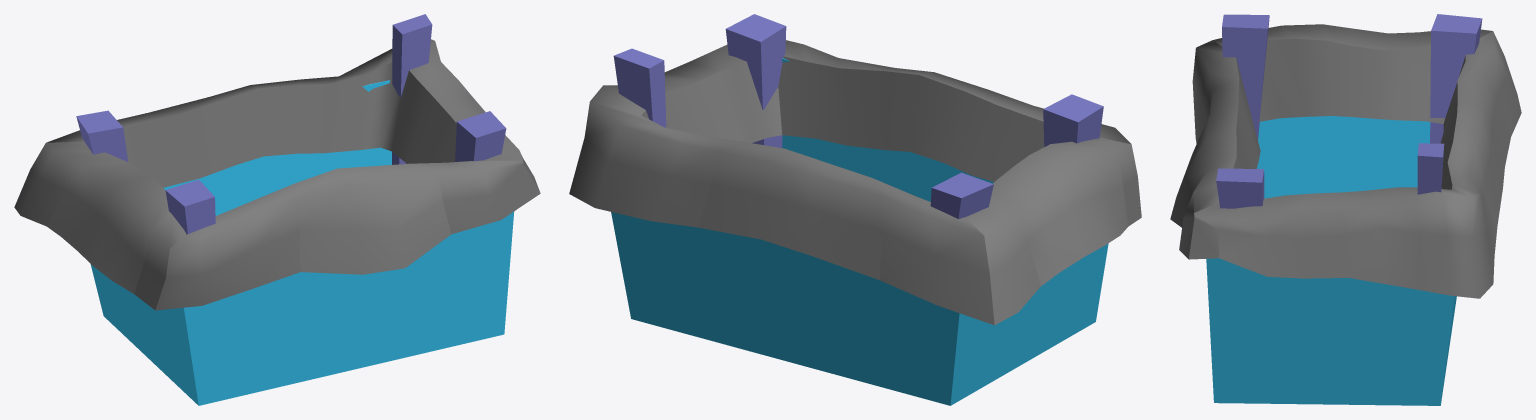
The model's file is Fruit_box_A.fbx.
The picture shows the model from 3 angles, left to right: view 1: azimuth 30°, elevation 25°; view 2: azimuth 150°, elevation 25°; view 3: azimuth 270°, elevation 25°; orthographic projection. The views are drawn at different scales.
Visible parts, largest first — view 1: Fruit_box_A; view 2: Fruit_box_A; view 3: Fruit_box_A.
Part boxes in pixels (bbox=[...]): Fruit_box_A: bbox=[14, 14, 540, 405]; Fruit_box_A: bbox=[569, 14, 1141, 405]; Fruit_box_A: bbox=[1170, 14, 1521, 405].
Size of the model in its own units: 78.89 by 42.8 by 52.54.
